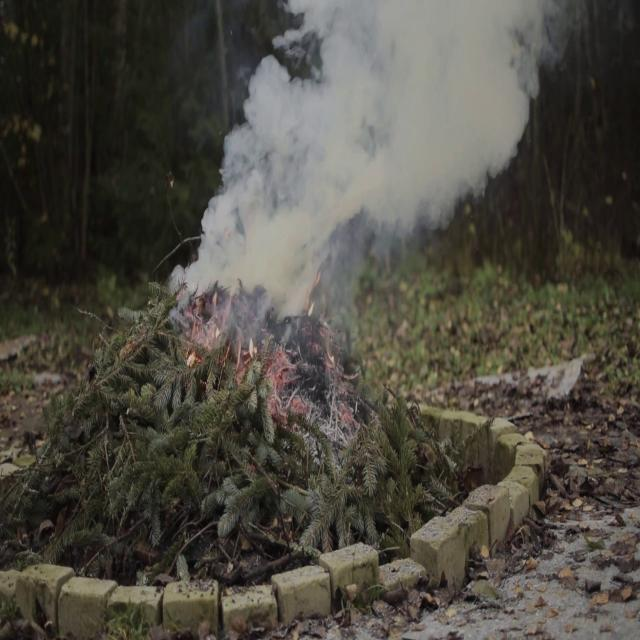Smoke: (188, 0, 565, 297)
